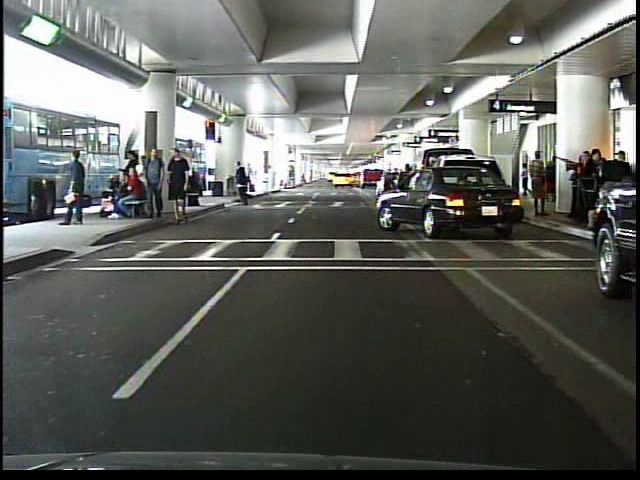person: (62, 145, 94, 233), (526, 149, 548, 216), (234, 159, 258, 206), (520, 159, 532, 197)
